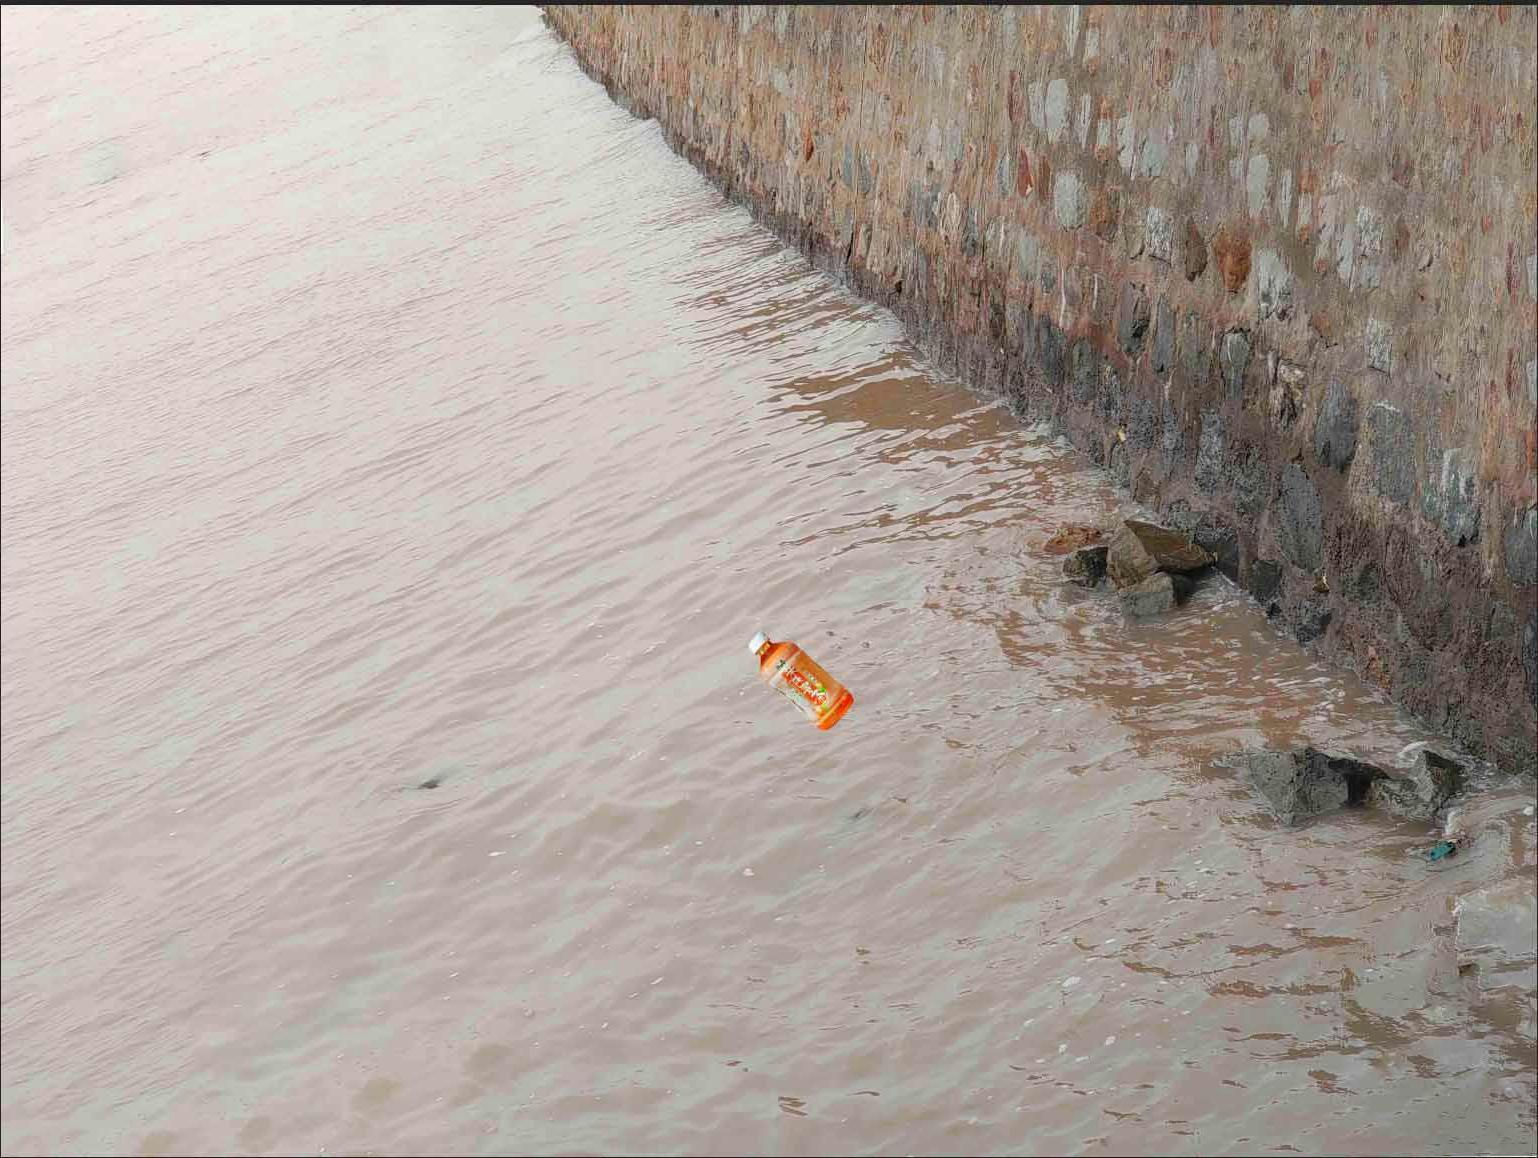Plastic: (740, 625, 851, 723)
